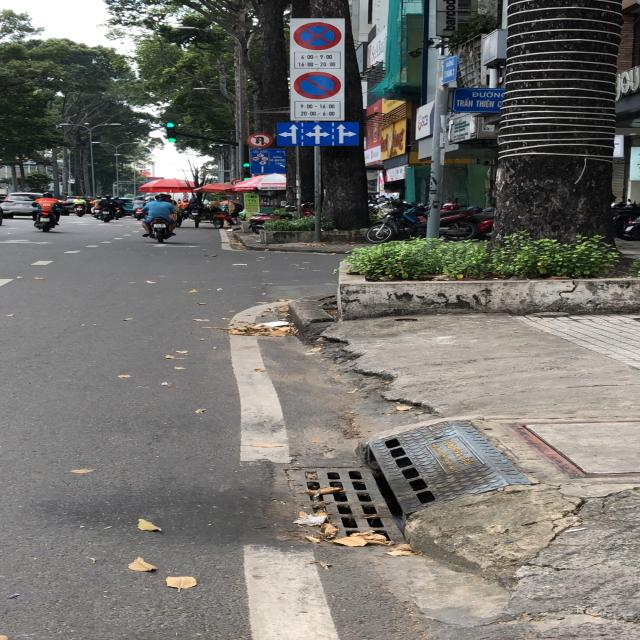Bien bao cam do xe: (288, 68, 339, 100)
Bien bao cam dung xe va do xe: (290, 18, 345, 52)
Bien bao cam quay dau xe: (246, 130, 276, 148)
